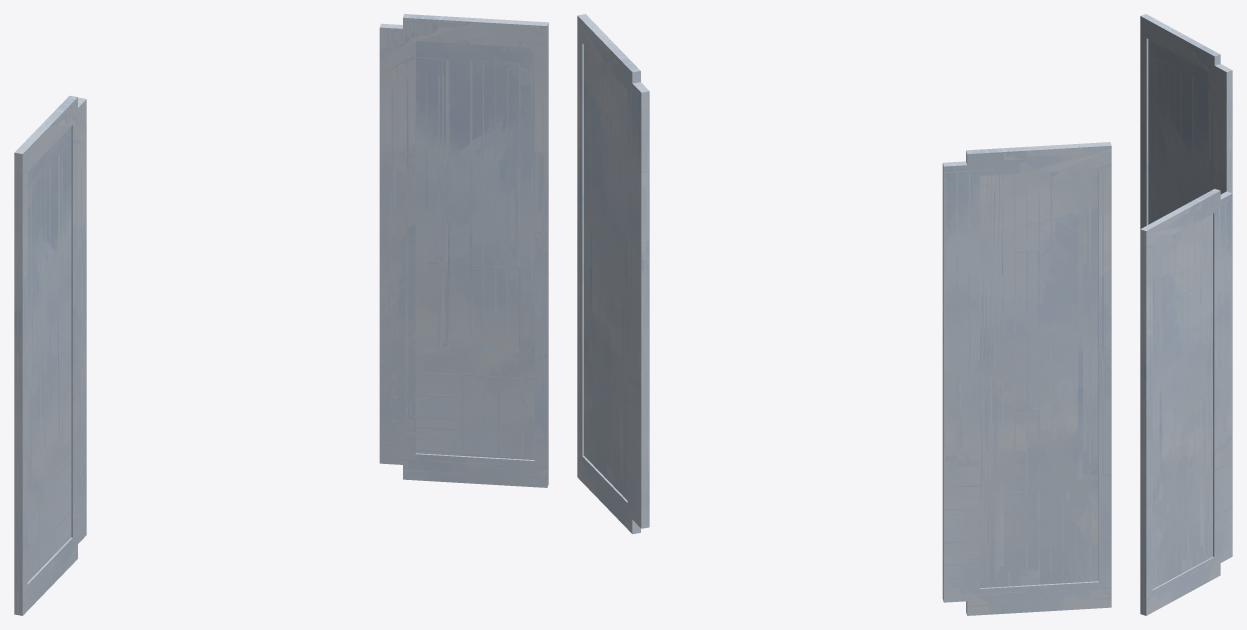
File: Straight sashes.fbx
3 views of the same model, side by side, from view 1: azimuth 30°, elevation 25°; view 2: azimuth 150°, elevation 25°; view 3: azimuth 270°, elevation 25° (orthographic). The views are drawn at different scales.
Visible parts, largest first — view 1: Straight sashes; view 2: Straight sashes; view 3: Straight sashes.
Part boxes in pixels (left/top/right/bottom): Straight sashes: left=14, top=14, right=548, bottom=615; Straight sashes: left=577, top=14, right=1111, bottom=615; Straight sashes: left=1140, top=14, right=1232, bottom=615.
Bounding box in the file's own units: 117 × 96.41 × 20.97.
